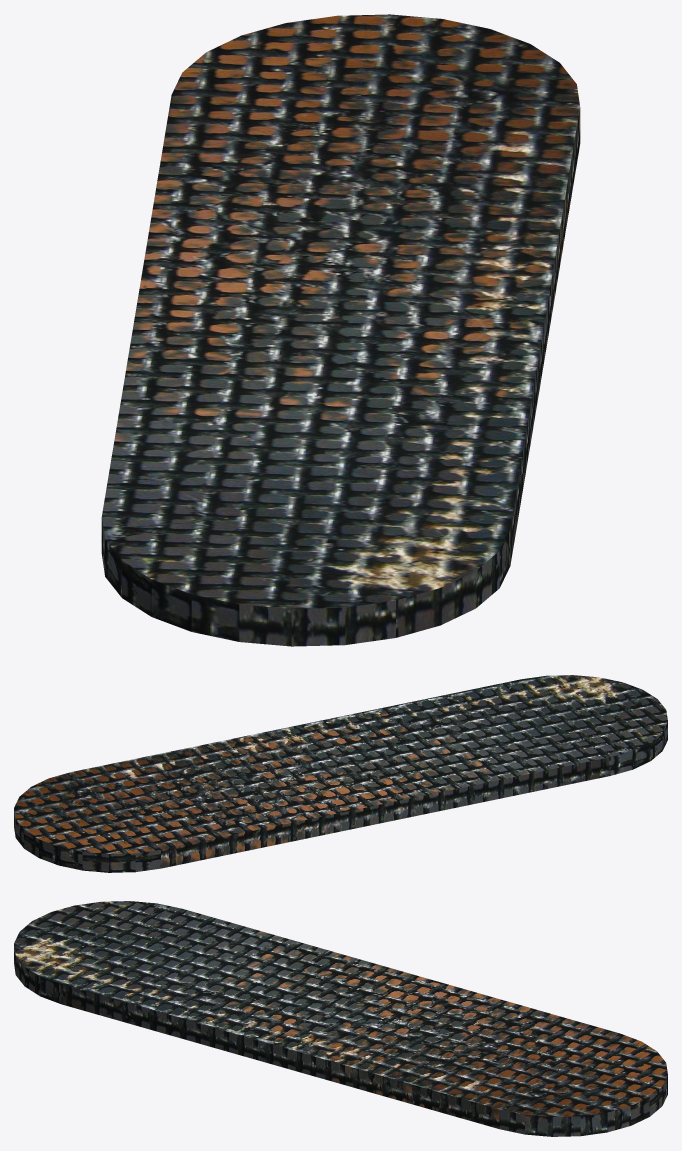
The model's file is escenario3_mov.fbx.
The picture shows the model from 3 angles, top to bottom: view 1: azimuth 30°, elevation 25°; view 2: azimuth 150°, elevation 25°; view 3: azimuth 270°, elevation 25°; orthographic projection. The views are drawn at different scales.
Parts seen in each view (by area): view 1: Model; view 2: Model; view 3: Model.
Part boxes in pixels (<box>): Model: <box>101,14,580,646</box>; Model: <box>14,675,667,872</box>; Model: <box>14,901,667,1136</box>.
Size of the model in its own units: 7.94 by 0.34 by 10.16.
1 material, 1 textured.
